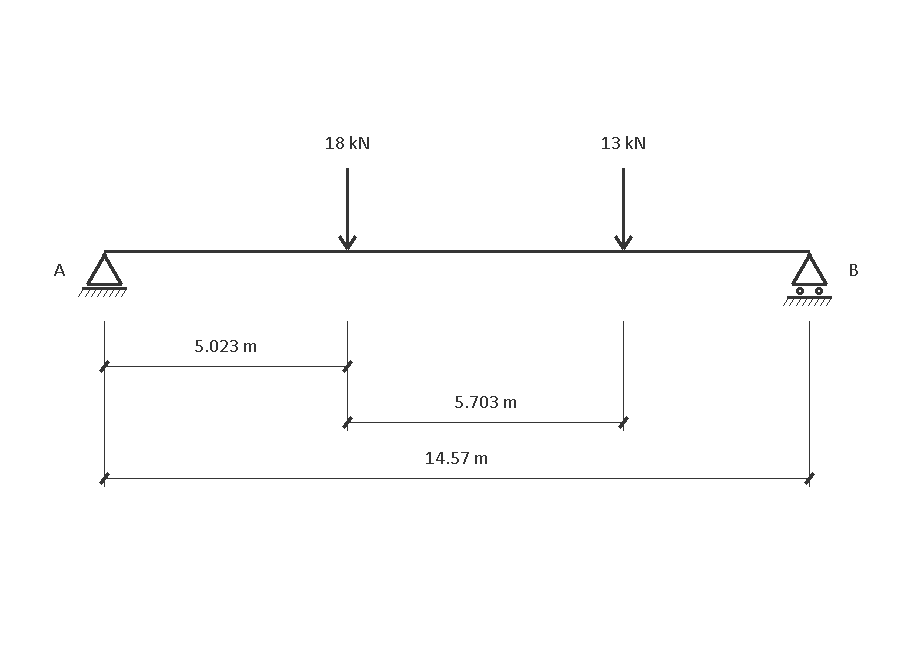pin_support: (78, 253, 127, 297)
point_load: (338, 168, 357, 250), (614, 168, 633, 250)
roller_support: (783, 253, 832, 306)
